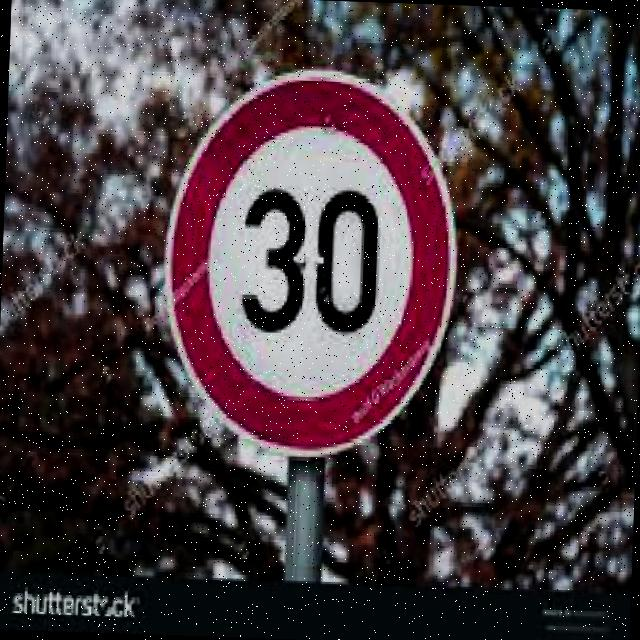Ograniczenie predkosci do 30: (158, 64, 464, 474)
